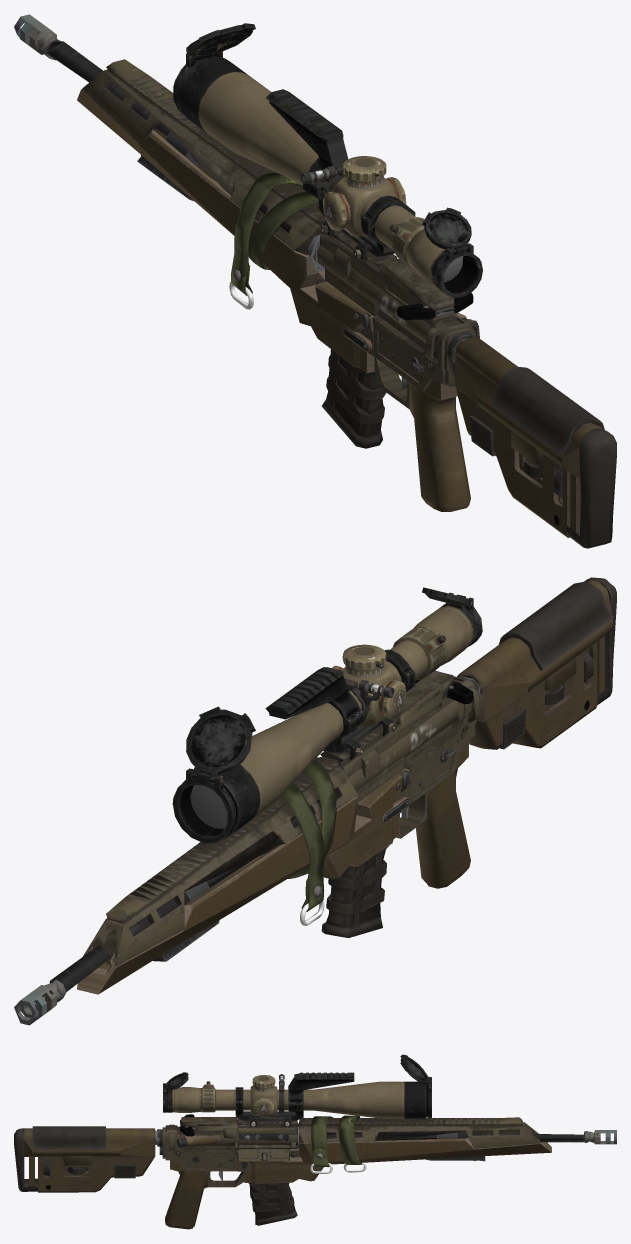
Rendered from longshot.glb.
3 views of the same model, one above another, from view 1: azimuth 30°, elevation 25°; view 2: azimuth 150°, elevation 25°; view 3: azimuth 270°, elevation 25° (orthographic). The views are drawn at different scales.
Visible parts, largest first — view 1: Cylinder.089_Mat2_0, Cube.053_Mat1_0, Cube.055_Mat1_0, Cylinder.076_Mat1_0, Cube.046_Mat1_0, Cube.049_Mat1_0, Cube.043_Mat2_0, Cube.045_Mat2_0, Cube.041_Mat2_0, Cylinder.090_Mat2_0, Cube.039_Mat2_0, Cube.054_Mat2_0 (+9 smaller); view 2: Cylinder.089_Mat2_0, Cube.053_Mat1_0, Cube.055_Mat1_0, Cylinder.076_Mat1_0, Cube.043_Mat2_0, Cube.041_Mat2_0, Cube.045_Mat2_0, Cube.046_Mat1_0, Cylinder.090_Mat2_0, Cube.054_Mat2_0, Cube.049_Mat1_0, Cube.056_Mat1_0 (+8 smaller); view 3: Cylinder.089_Mat2_0, Cube.053_Mat1_0, Cube.055_Mat1_0, Cube.041_Mat2_0, Cube.043_Mat2_0, Cube.049_Mat1_0, Cylinder.076_Mat1_0, Cylinder.090_Mat2_0, Cube.046_Mat1_0, Cube.045_Mat2_0, Cube.054_Mat2_0, Plane.009_Mat2_0 (+15 smaller).
Boxes of the visible parts, x1,y1,x2,y2 form: Cylinder.089_Mat2_0: (173,51,482,297); Cube.053_Mat1_0: (77,89,378,373); Cube.055_Mat1_0: (82,69,321,255); Cylinder.076_Mat1_0: (317,231,456,349); Cube.046_Mat1_0: (407,379,470,511); Cube.049_Mat1_0: (372,316,479,408); Cube.043_Mat2_0: (455,337,603,532); Cube.045_Mat2_0: (490,367,604,455); Cube.041_Mat2_0: (455,387,579,537); Cylinder.090_Mat2_0: (266,89,415,256); Cube.039_Mat2_0: (567,429,616,548); Cube.054_Mat2_0: (321,349,386,448); Cylinder.089_Mat2_0: (172,592,482,843); Cube.053_Mat1_0: (77,768,409,994); Cube.055_Mat1_0: (83,766,358,965); Cylinder.076_Mat1_0: (338,670,460,802); Cube.043_Mat2_0: (457,580,613,722); Cube.041_Mat2_0: (468,641,597,749); Cube.045_Mat2_0: (498,581,613,670); Cube.046_Mat1_0: (416,741,470,888); Cylinder.090_Mat2_0: (265,649,415,753); Cube.054_Mat2_0: (321,845,389,937); Cube.049_Mat1_0: (396,676,480,838); Cube.056_Mat1_0: (106,756,339,922); Cylinder.089_Mat2_0: (163,1077,431,1118); Cube.053_Mat1_0: (237,1131,551,1183); Cube.055_Mat1_0: (299,1121,539,1148); Cube.041_Mat2_0: (38,1157,154,1192); Cube.043_Mat2_0: (24,1128,155,1186); Cube.049_Mat1_0: (162,1124,244,1187); Cylinder.076_Mat1_0: (180,1117,297,1150); Cylinder.090_Mat2_0: (235,1072,354,1120); Cube.046_Mat1_0: (165,1160,207,1229); Cube.045_Mat2_0: (32,1126,105,1149); Cube.054_Mat2_0: (248,1183,297,1225); Plane.009_Mat2_0: (311,1115,362,1167).
Bounding box in the file's own units: 0.1037 × 0.3592 × 1.16.
4 materials, 2 textured.
